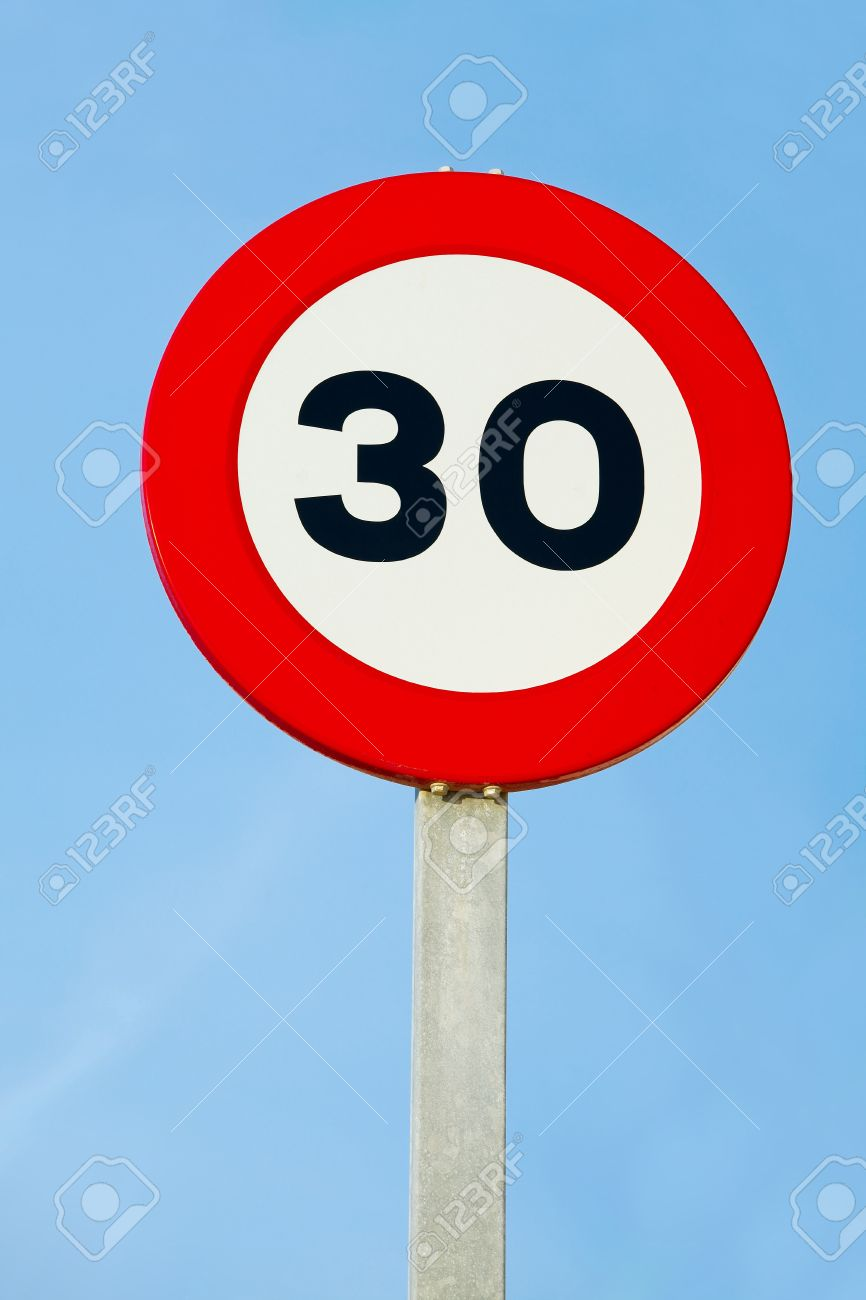Speed_limit_30km: (131, 169, 802, 780)
